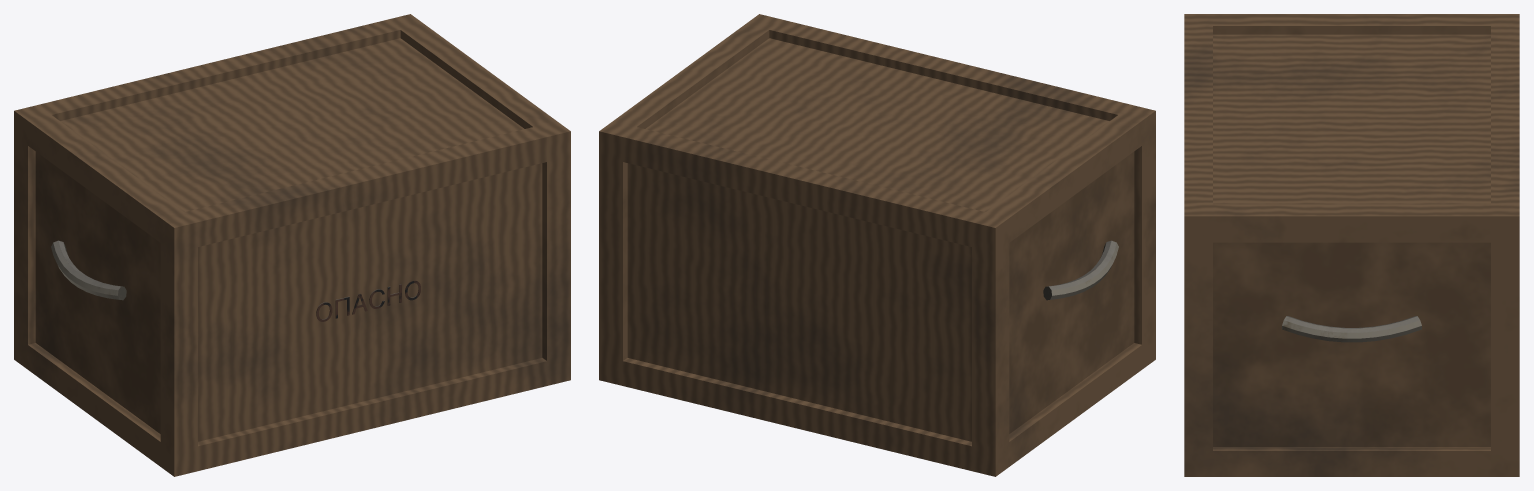
The model's file is SM_Crate_Military_Small.fbx.
3 renders of one model, left to right at view 1: azimuth 30°, elevation 25°; view 2: azimuth 150°, elevation 25°; view 3: azimuth 270°, elevation 25°, orthographic. The views are drawn at different scales.
Visible parts, largest first — view 1: SM_Crate_Military_Small; view 2: SM_Crate_Military_Small; view 3: SM_Crate_Military_Small.
Part boxes in pixels (box(x1,y1,x2,y2)): SM_Crate_Military_Small: box(14, 14, 570, 476); SM_Crate_Military_Small: box(599, 14, 1155, 476); SM_Crate_Military_Small: box(1184, 14, 1519, 476).
Size of the model in its own units: 0.5556 by 0.3 by 0.35.
1 material, 1 textured.
